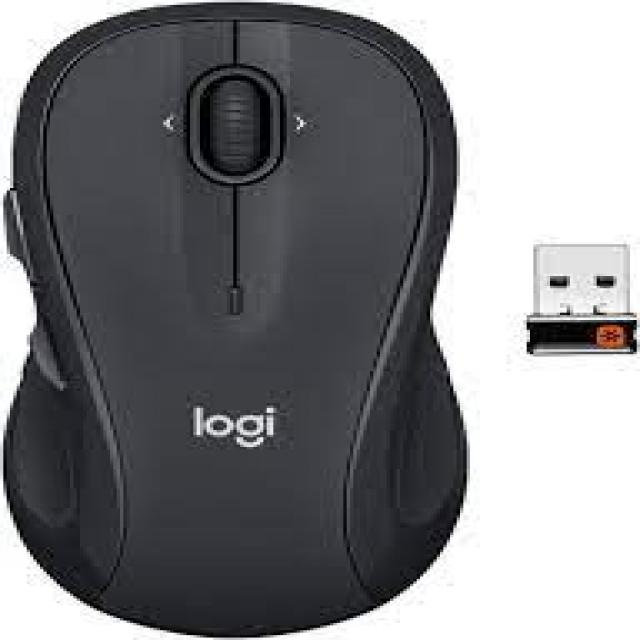others: (3, 2, 537, 640)
